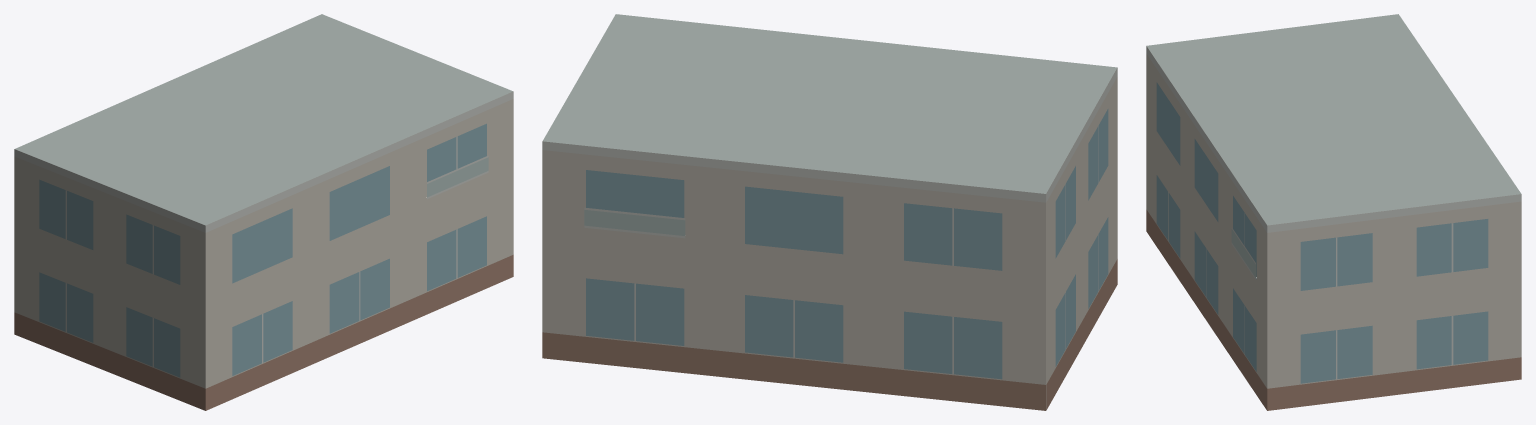
The model's file is survey-upis-32561518.glb.
The picture shows the model from 3 angles, left to right: view 1: azimuth 30°, elevation 25°; view 2: azimuth 150°, elevation 25°; view 3: azimuth 270°, elevation 25°; orthographic projection. The views are drawn at different scales.
Visible parts, largest first — view 1: survey-upis-32561518.tmp; view 2: survey-upis-32561518.tmp; view 3: survey-upis-32561518.tmp.
Part boxes in pixels (box(x1,y1,x2,y2)): survey-upis-32561518.tmp: box(14, 14, 513, 410); survey-upis-32561518.tmp: box(542, 14, 1117, 410); survey-upis-32561518.tmp: box(1146, 14, 1521, 410).
Bounding box in the file's own units: 14.94 × 6.1 × 11.21.
